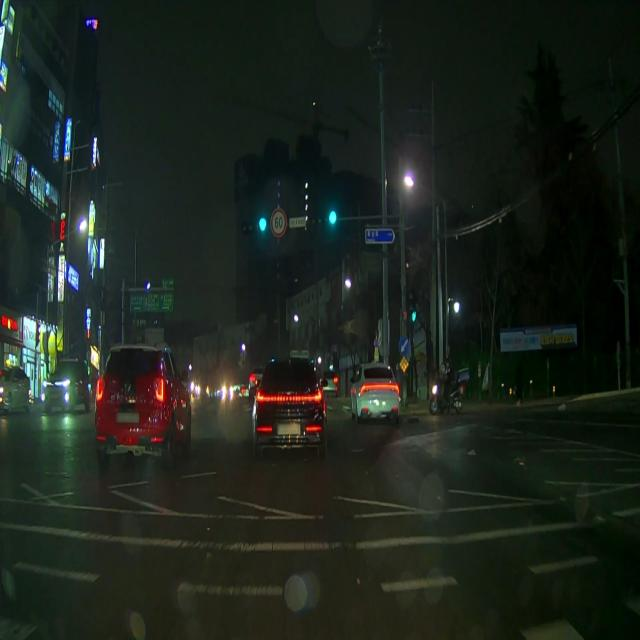Green Light: (258, 216, 267, 232), (329, 210, 337, 226)
